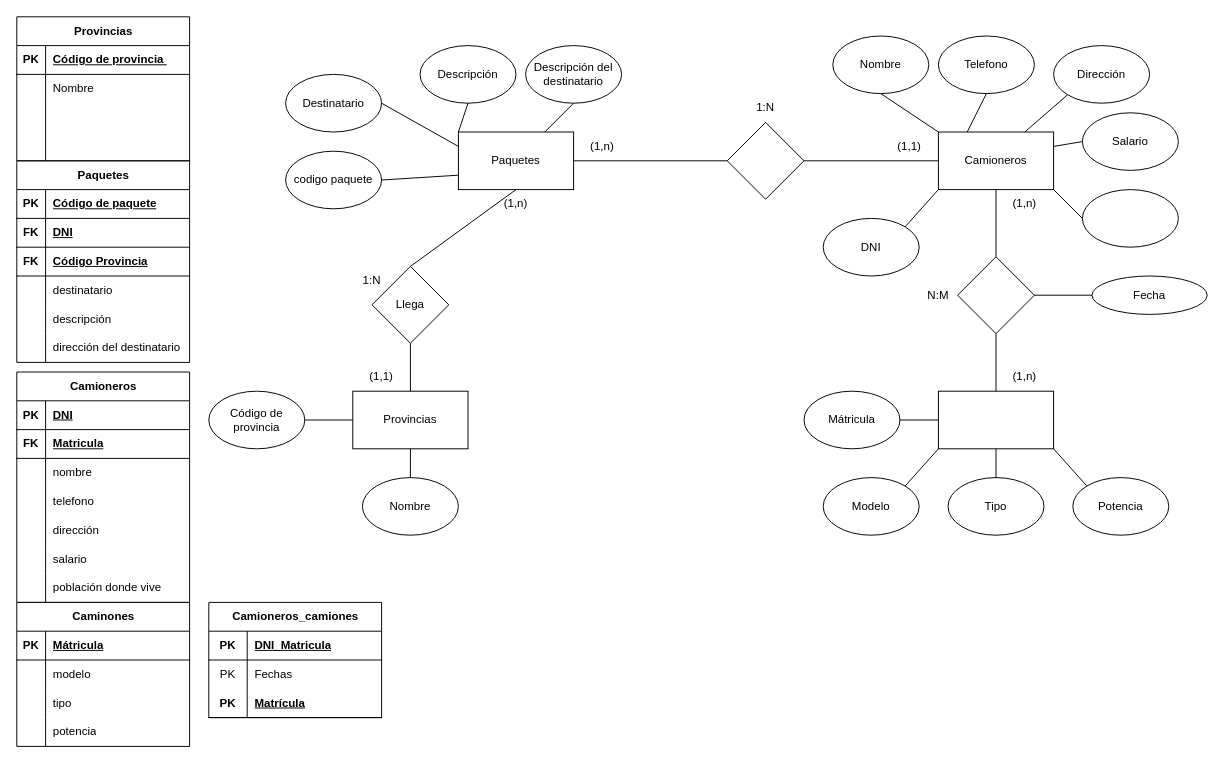
The diagram is 1224 pixels wide and 763 high, and some of its shapes have lost their labels. Each missing label, with the centre of its shape:
"Camiones" goes at (995,419).
"Conducir" goes at (995,295).
"Distribuye" goes at (765,160).
"Provincia donde vive" goes at (1129,218).
